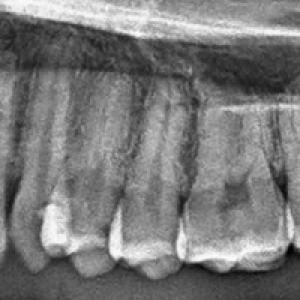tooth: (175, 97, 290, 275), (46, 70, 119, 277), (110, 83, 181, 278), (10, 56, 46, 274)
